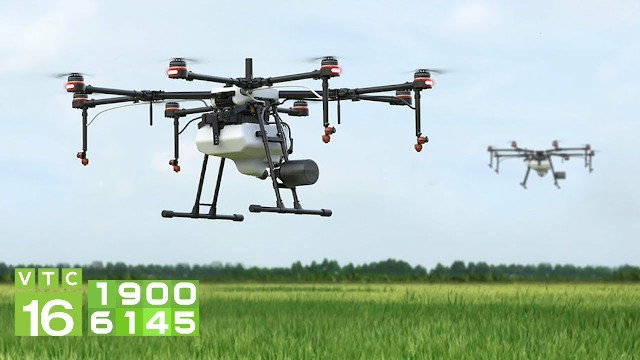maybay_khongnguoilai: (56, 41, 426, 223), (477, 128, 594, 194)
